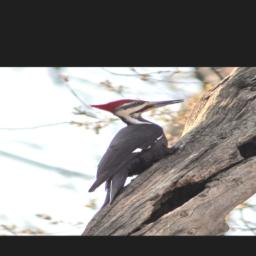Woodpecker: (86, 99, 188, 207)
